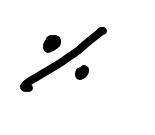div: (19, 27, 106, 94)
